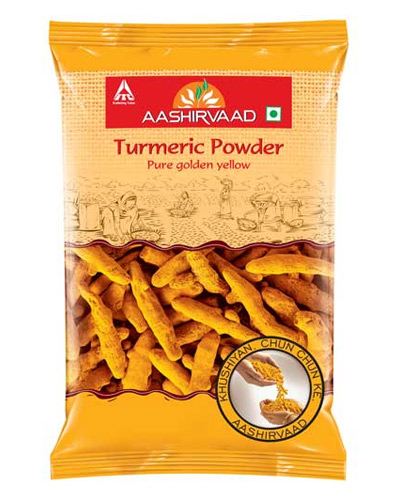VEG: (265, 104, 283, 122)
